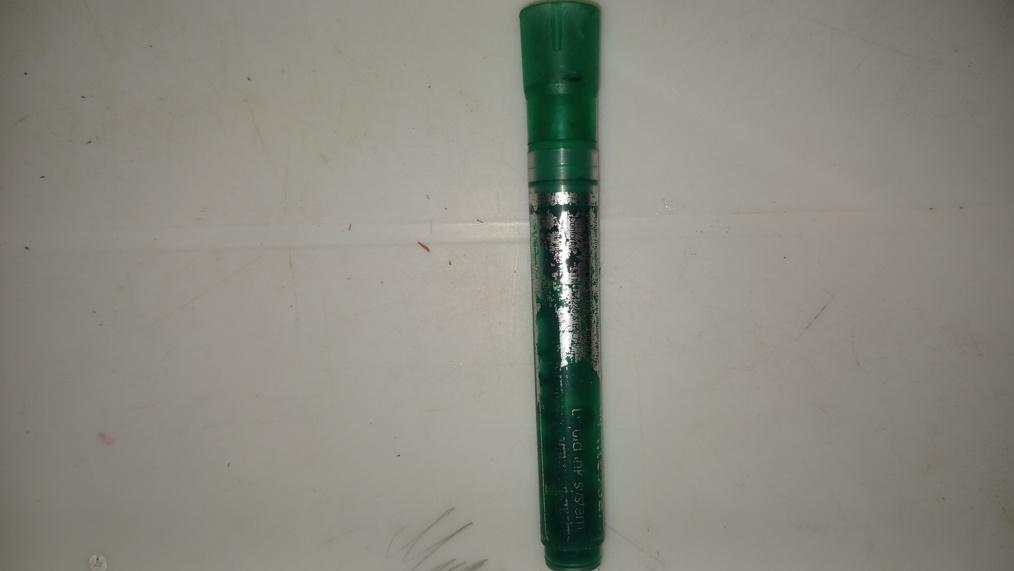Whiteboard marker: (517, 2, 602, 571)
